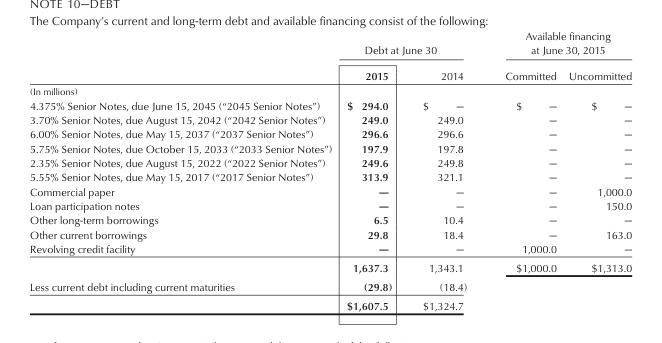table: (29, 29, 631, 311)
table column: (29, 29, 338, 311), (406, 29, 485, 311), (485, 29, 561, 311), (561, 29, 631, 311), (338, 29, 406, 311)
table column header: (29, 29, 631, 97)
table row: (29, 62, 631, 97), (29, 29, 631, 62), (29, 257, 631, 276), (29, 276, 631, 295), (29, 241, 631, 257), (29, 295, 631, 311), (29, 97, 631, 112), (29, 140, 631, 155), (29, 183, 631, 198), (29, 226, 631, 241), (29, 112, 631, 126), (29, 126, 631, 140), (29, 155, 631, 169), (29, 169, 631, 183), (29, 198, 631, 212), (29, 212, 631, 226)
table spanning cell: (29, 29, 338, 97), (338, 29, 485, 62), (485, 29, 631, 62)
